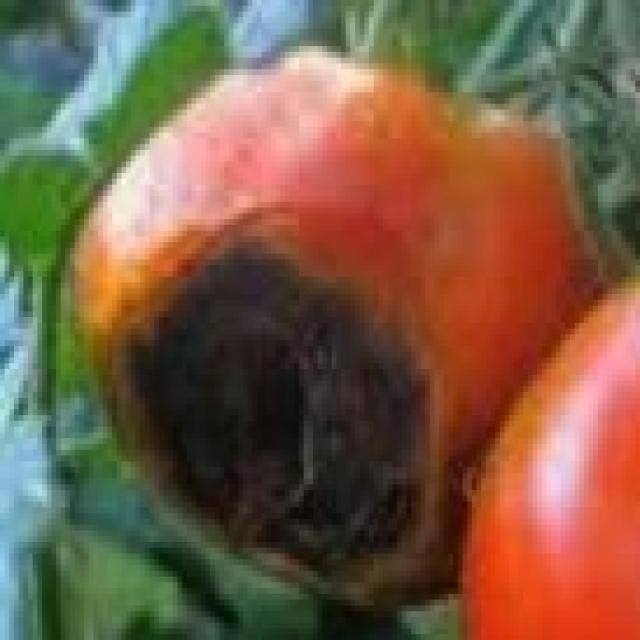Blossom End Rot Fruit: (62, 156, 290, 390)
